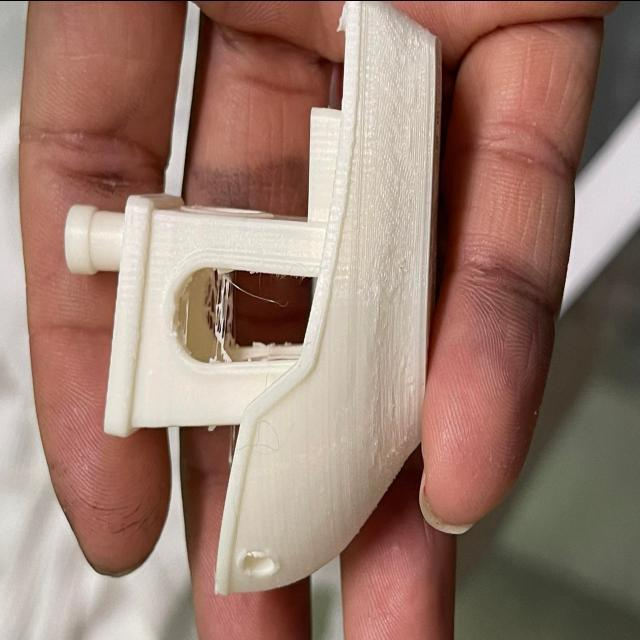Stringing: (209, 267, 231, 359)
